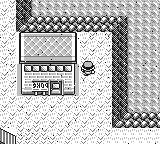main: (81, 61, 95, 76)
no-caminable: (16, 0, 160, 128), (20, 33, 76, 95), (1, 129, 15, 143)
puerta: (50, 81, 62, 95)
